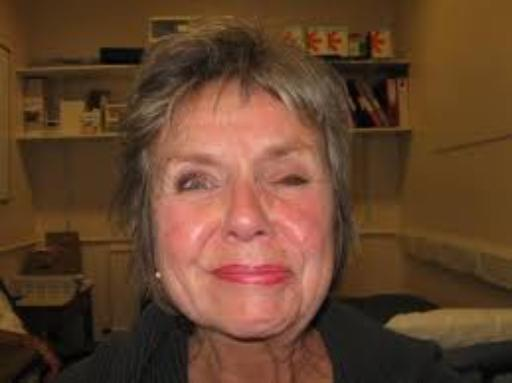left_eye: (274, 173, 316, 191)
left_lip_corner: (280, 265, 301, 280)
right_eye: (177, 176, 223, 194)
right_lip_corner: (199, 265, 227, 281)
